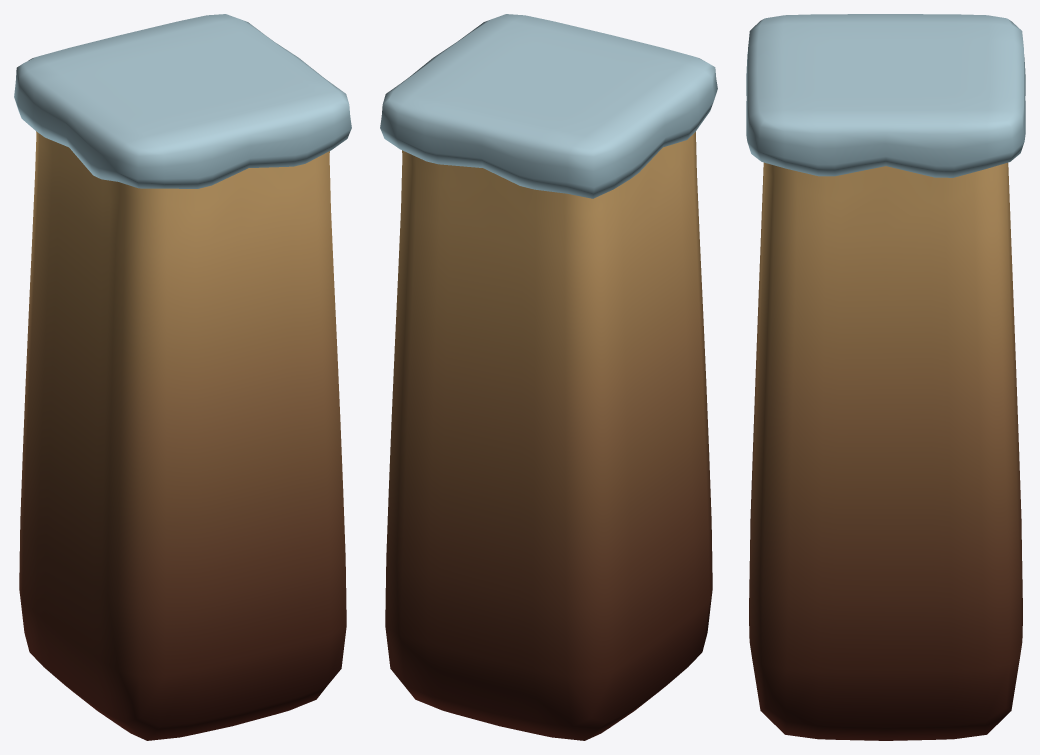
Rendered from TileSnow_5m.fbx.
3 views of the same model, side by side, from view 1: azimuth 30°, elevation 25°; view 2: azimuth 150°, elevation 25°; view 3: azimuth 270°, elevation 25° (orthographic). The views are drawn at different scales.
Parts seen in each view (by area): view 1: TileSnow_5m; view 2: TileSnow_5m; view 3: TileSnow_5m.
Boxes of the visible parts, x1,y1,x2,y2 form: TileSnow_5m: (14, 14, 351, 740); TileSnow_5m: (380, 14, 717, 740); TileSnow_5m: (746, 14, 1025, 740).
Size of the model in its own units: 2 by 5 by 2.
